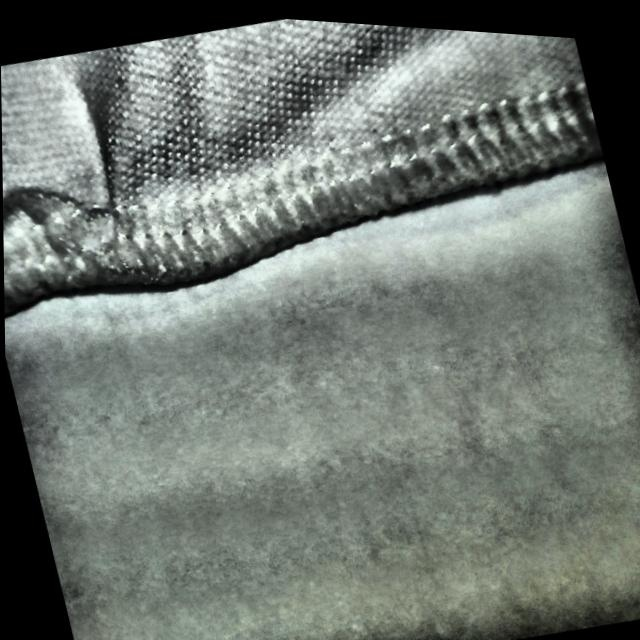seam: (0, 80, 191, 327)
